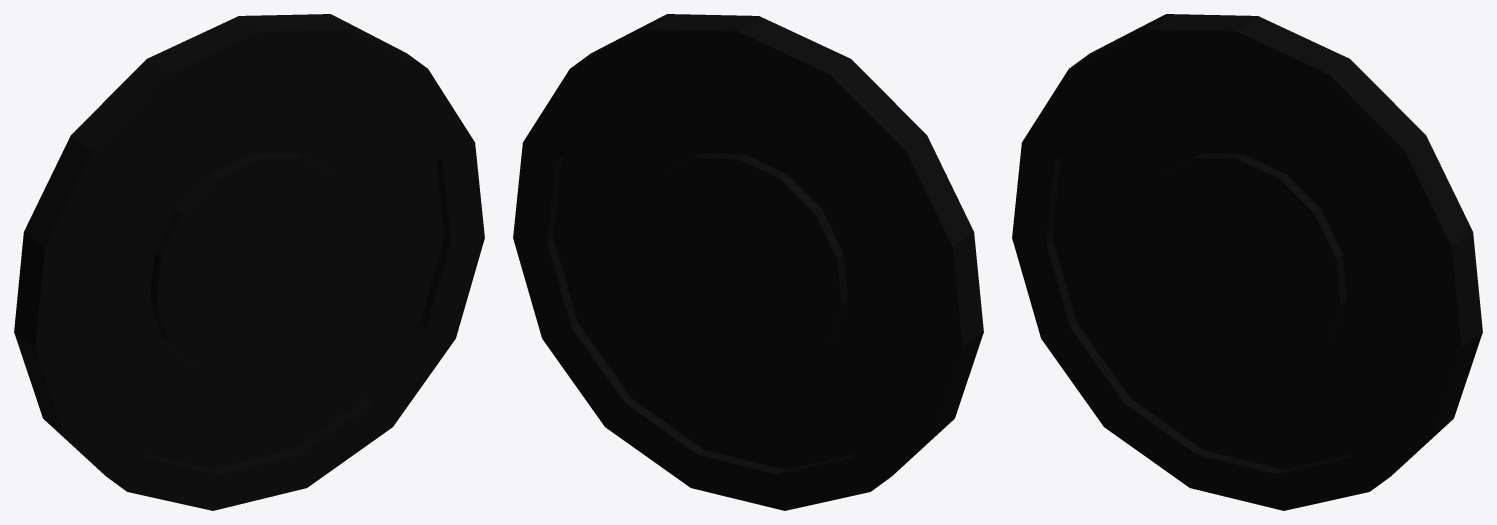
Rendered from BlackPlate.fbx.
3 renders of one model, left to right at view 1: azimuth 30°, elevation 25°; view 2: azimuth 150°, elevation 25°; view 3: azimuth 330°, elevation 25°, orthographic.
Visible parts, largest first — view 1: BlackPlate; view 2: BlackPlate; view 3: BlackPlate.
Boxes of the visible parts, x1,y1,x2,y2 form: BlackPlate: [14, 14, 484, 510]; BlackPlate: [513, 14, 983, 510]; BlackPlate: [1012, 14, 1482, 510].
Bounding box in the file's own units: 44.52 × 44.28 × 3.64.
